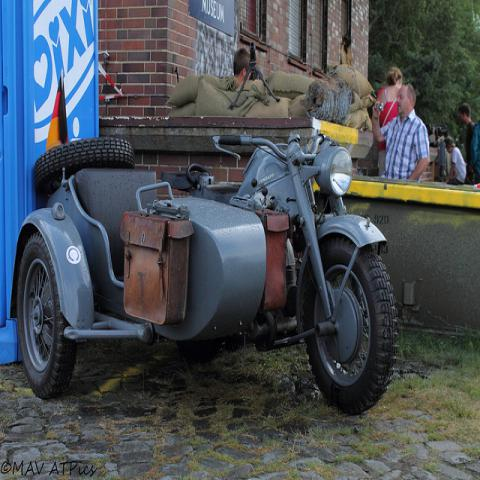motorcycle: (11, 137, 394, 417)
